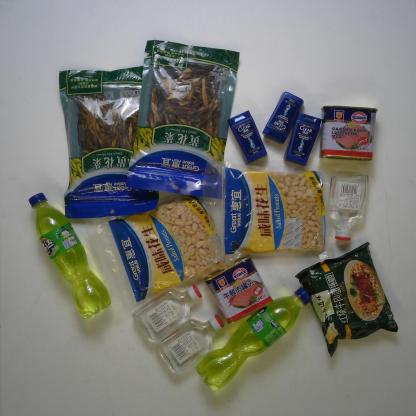Alcohol: (155, 315, 224, 376), (132, 284, 202, 343), (327, 170, 369, 242)
Canned Food: (204, 254, 273, 324), (319, 106, 378, 160)
Dried Food: (125, 40, 240, 200), (59, 64, 160, 218)
Dried Fruit: (85, 179, 242, 315), (201, 158, 334, 262)
Drink: (195, 287, 311, 391), (29, 193, 110, 319)
Instant Noodles: (294, 242, 398, 358)
Personal Hygiene: (262, 91, 304, 143), (227, 111, 267, 164), (283, 112, 321, 166)
